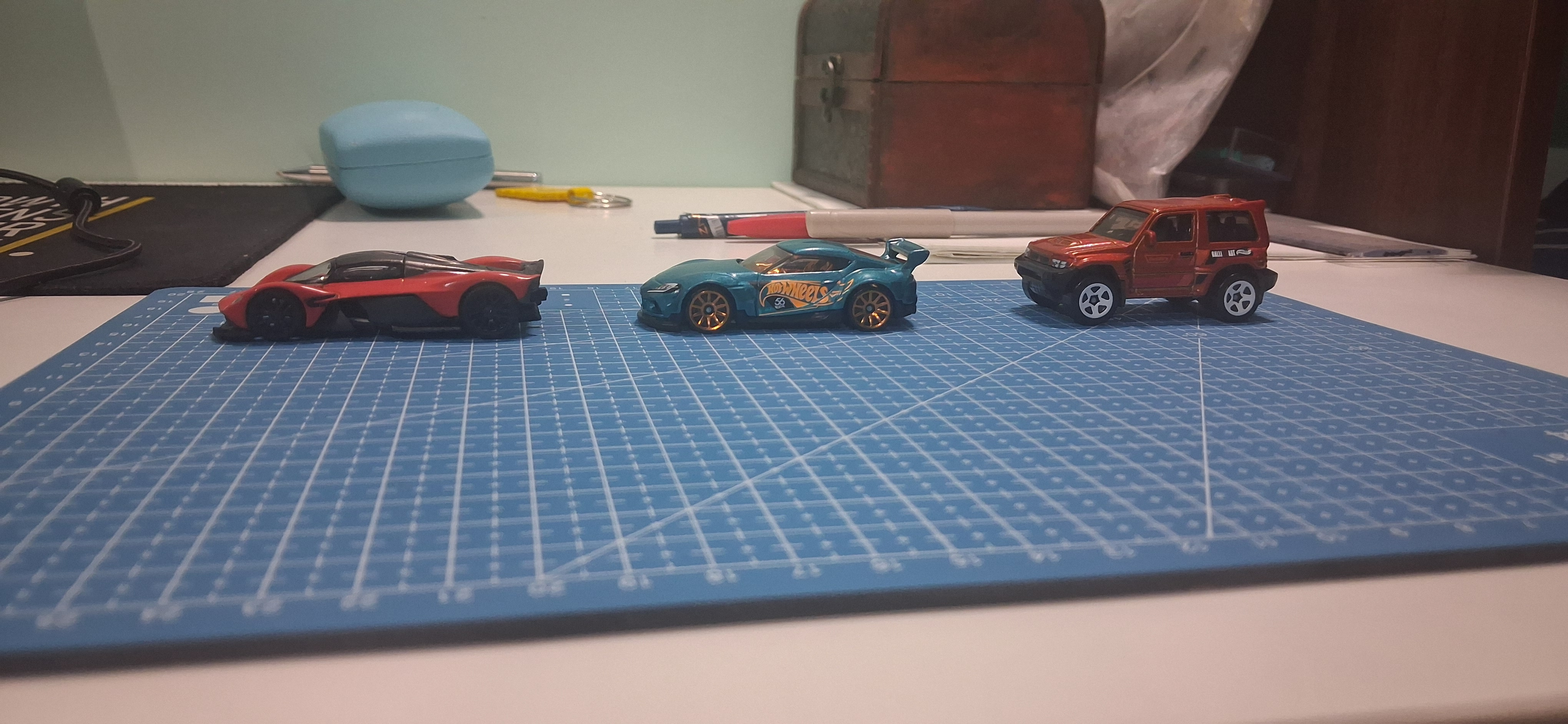Aston_Martin_Valkyrie: (201, 232, 561, 370)
Mitsubishi_Pajero_Evolution: (988, 186, 1296, 346)
Toyota_GR_Supra: (625, 229, 932, 343)
